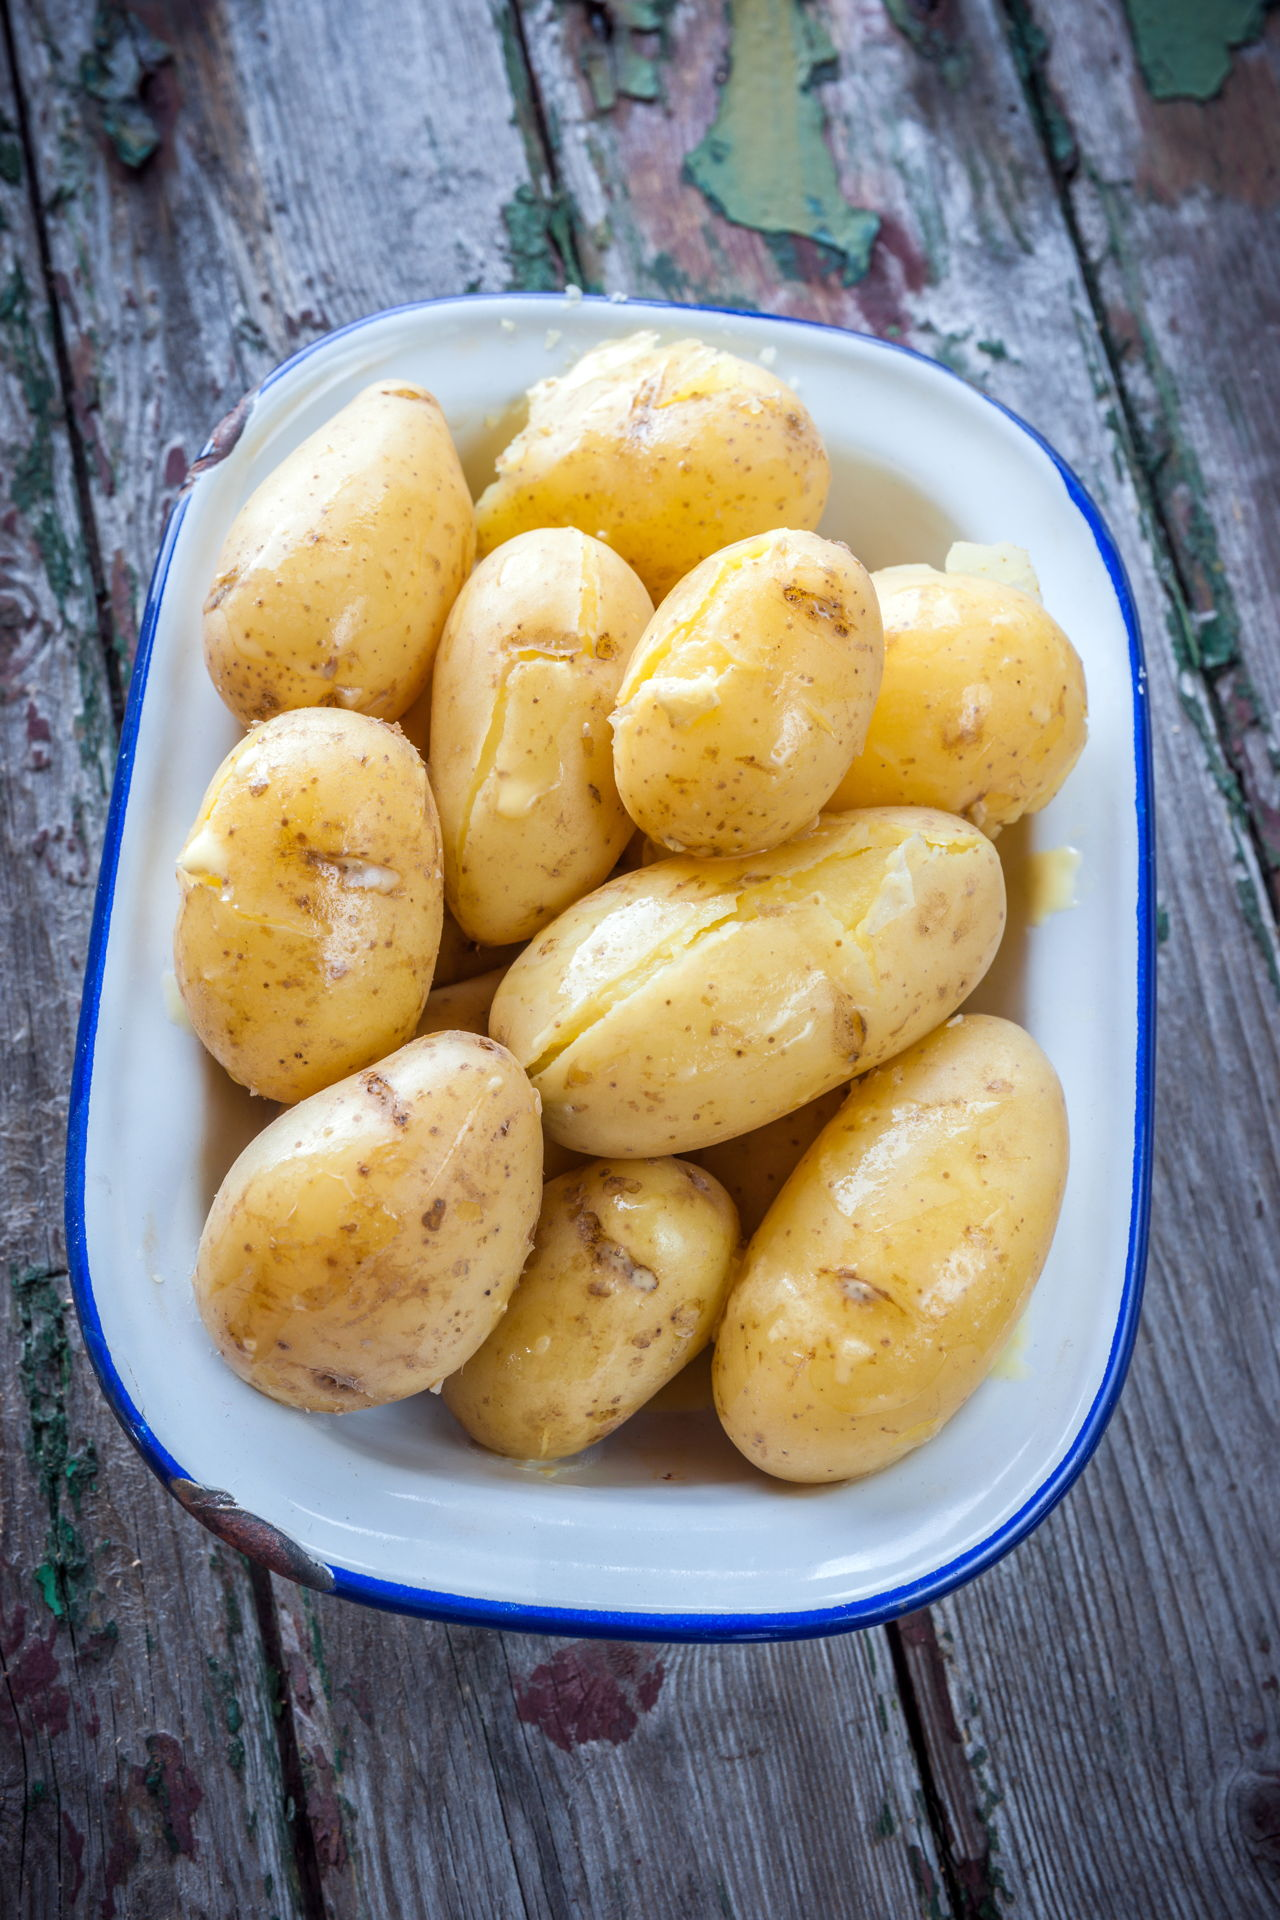boiled potatoes: (183, 327, 1086, 1469)
